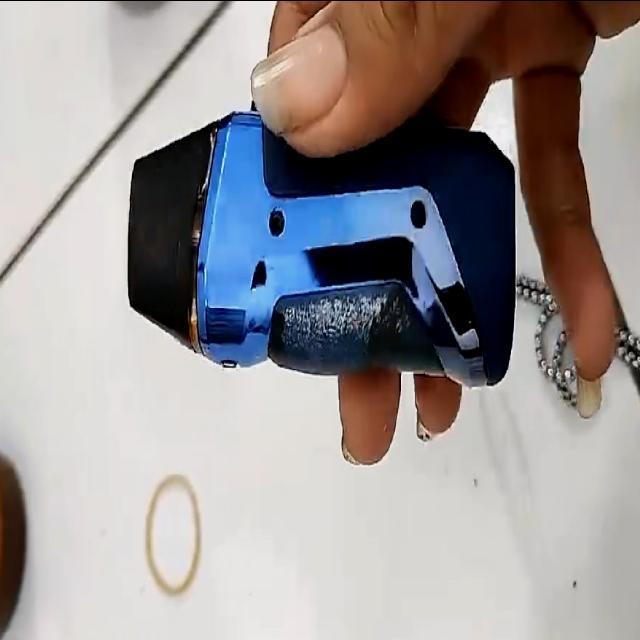Hazard: (128, 108, 518, 384)
